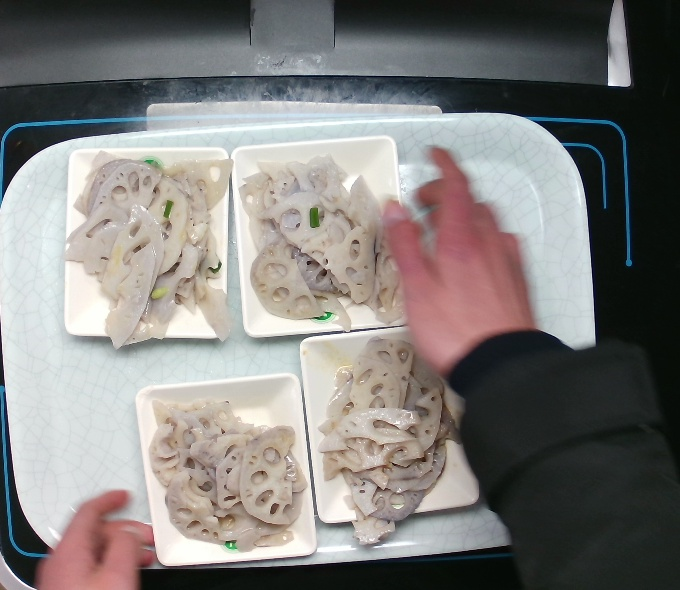wcq-OuPian: (65, 144, 240, 350), (233, 148, 406, 341), (314, 333, 468, 545), (141, 394, 311, 551)
